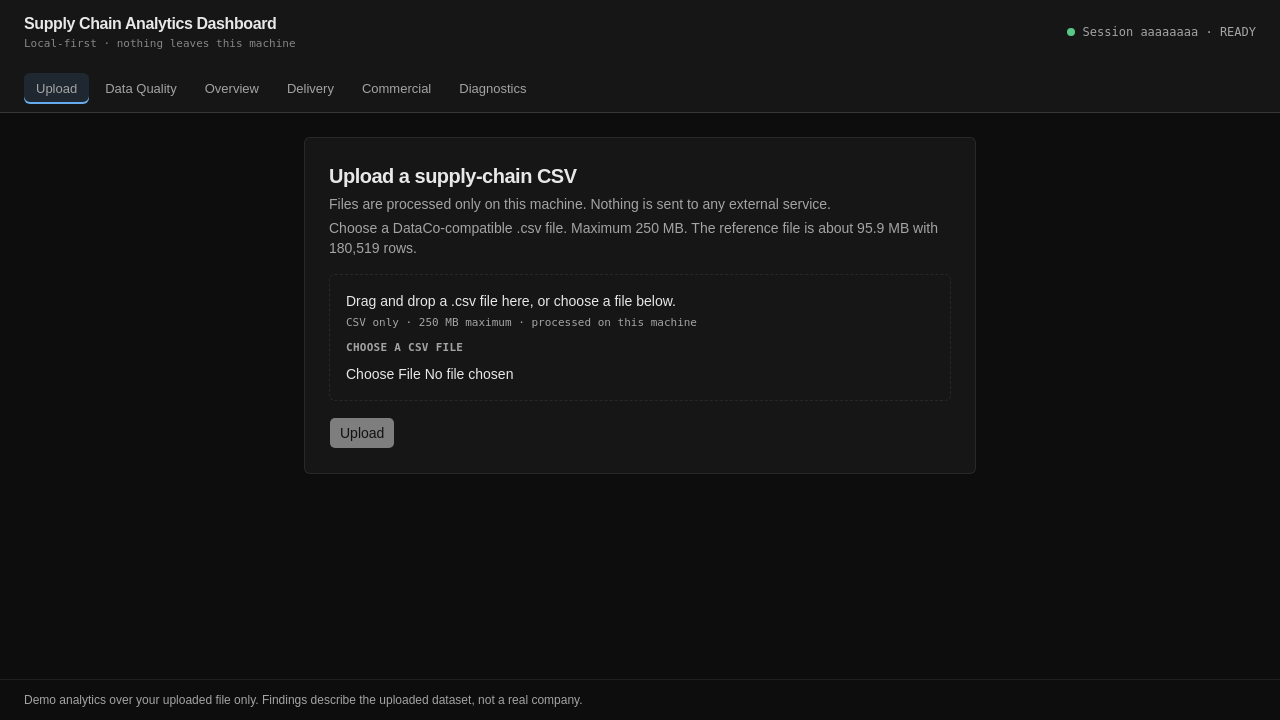
Test: Phase-12 Executive Overview › renders headline cards with approved labels
This screenshot has width=1280, height=720.
Step 1. Click the button "Overview" → coordinates (232, 88), box [193,72,271,104]
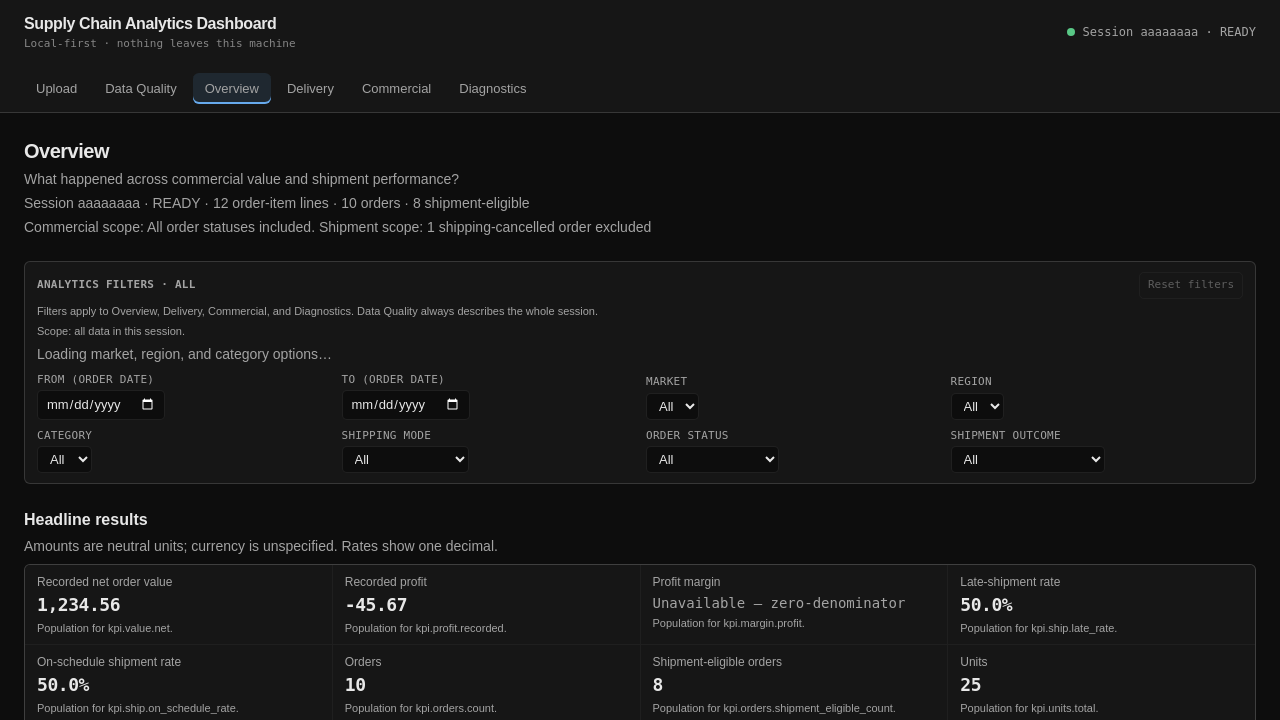
Now the heading "Overview" is shown, box [24,140,109,162]
Now the text "1,234.56" is shown, box [37,594,120,615]
Now the text "50.0%" is shown 2 times, box [960,594,1012,615]; [37,674,89,695]
